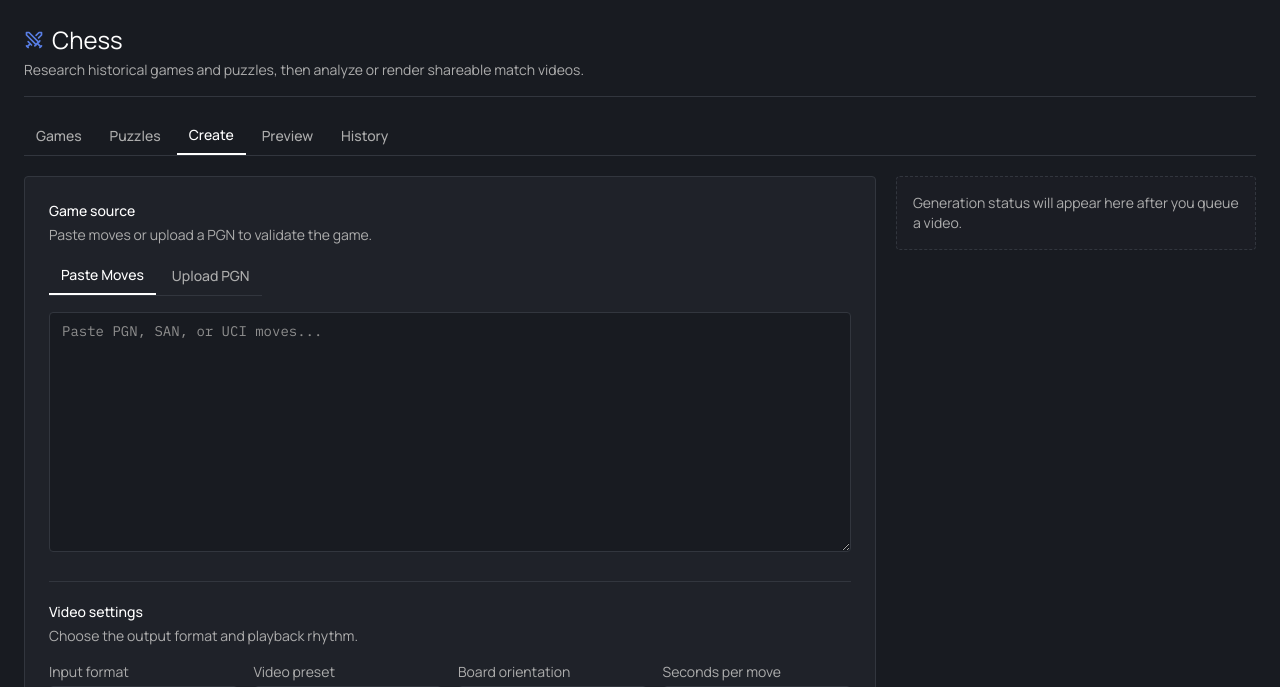
Test: ChessVideoPage › shows failed state with retry
Click the tab "History": x=365, y=136 [329,117,400,155]
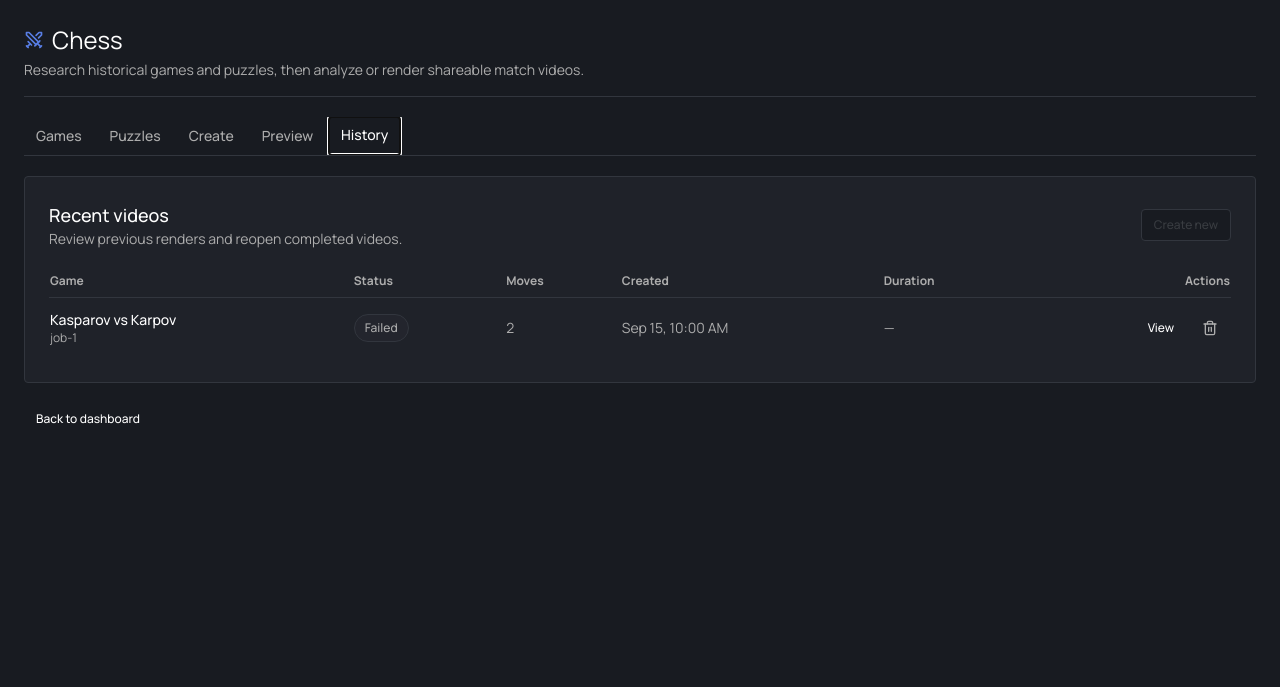
Click the button "Kasparov vs Karpov": x=113, y=320 [50,310,176,330]
(page scrolled)
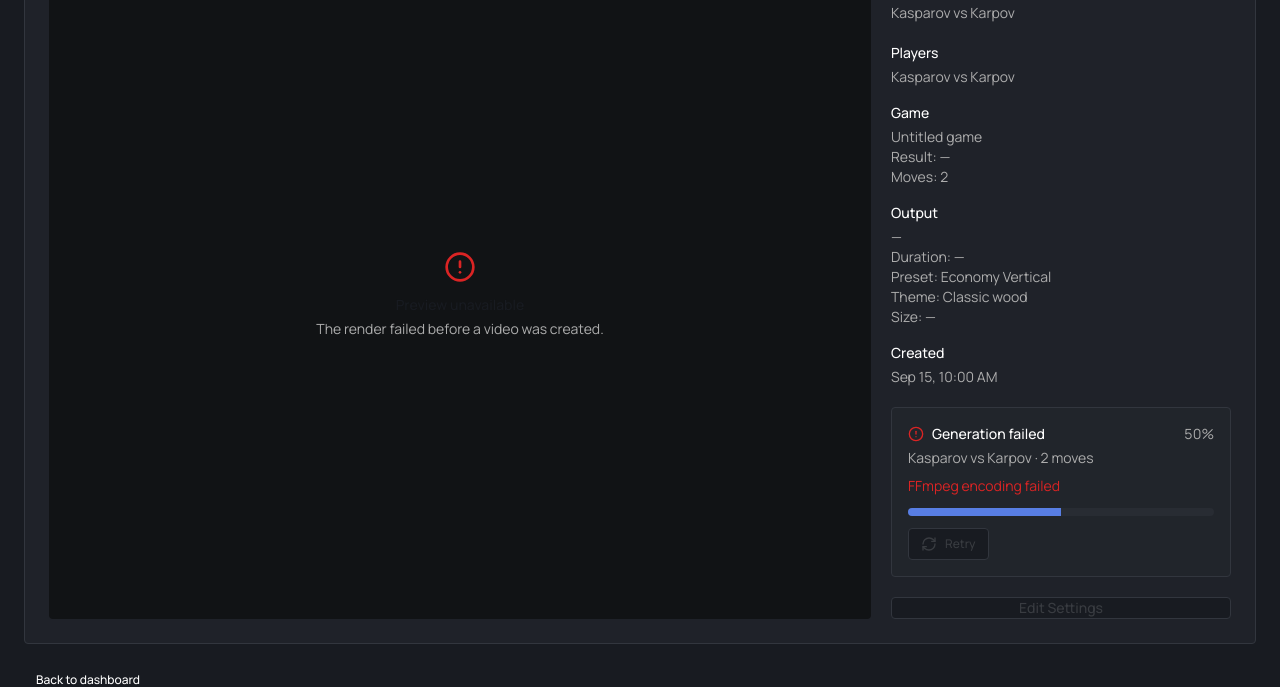
Now the text "FFmpeg encoding failed" is shown, box [908,476,1060,495]
Now the button "Retry" is enabled, box [908,528,988,560]
